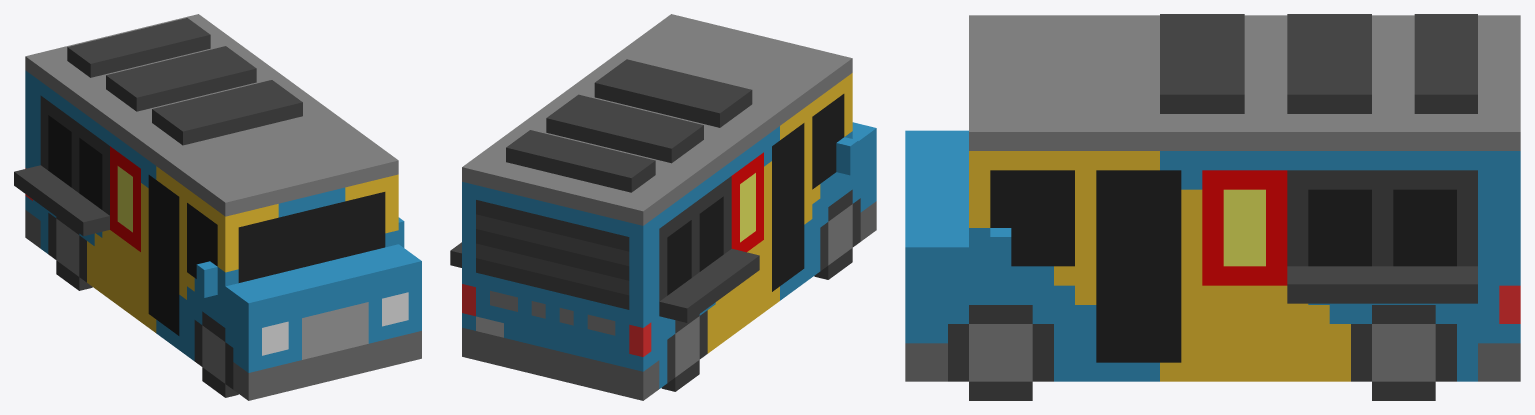
The model's file is vanC.obj.
3 renders of one model, left to right at view 1: azimuth 30°, elevation 25°; view 2: azimuth 150°, elevation 25°; view 3: azimuth 270°, elevation 25°, orthographic. The views are drawn at different scales.
Size of the model in its own units: 1.7 by 1.5 by 2.9.
Materials: 1 (1 with a texture image).
